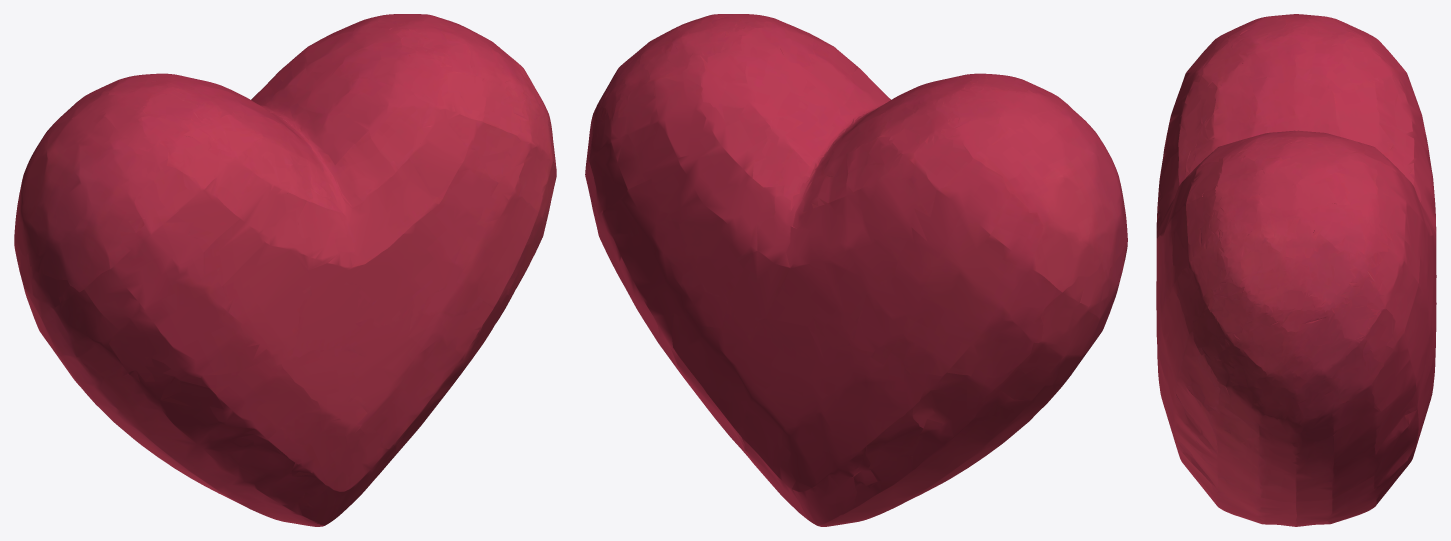
The model's file is heart.glb.
The picture shows the model from 3 angles, left to right: view 1: azimuth 30°, elevation 25°; view 2: azimuth 150°, elevation 25°; view 3: azimuth 270°, elevation 25°; orthographic projection. The views are drawn at different scales.
Size of the model in its own units: 1.9 by 1.63 by 0.9481.
Materials: 1 (1 with a texture image).
